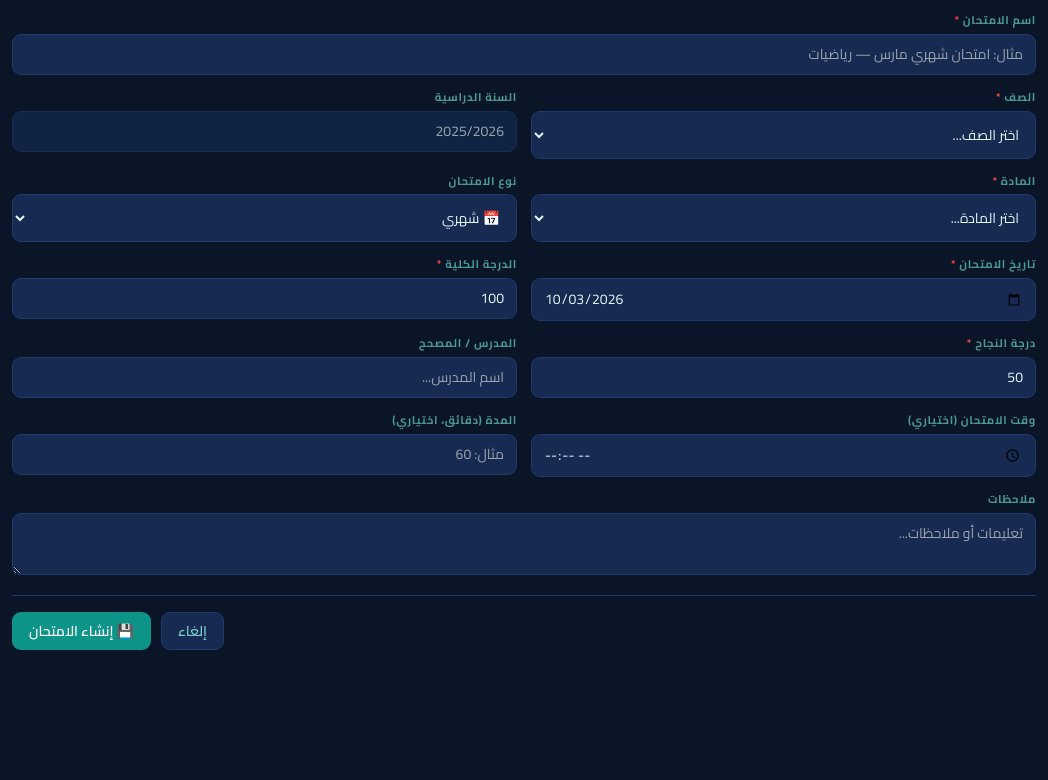
Scenario: ExamForm — scheduling fields (Exams Phase 3C) › flags a midnight-crossing end time explicitly
Step 1. Type "23:30" into the time field named "scheduledTime" → [784, 455], box [531,434,1036,477]
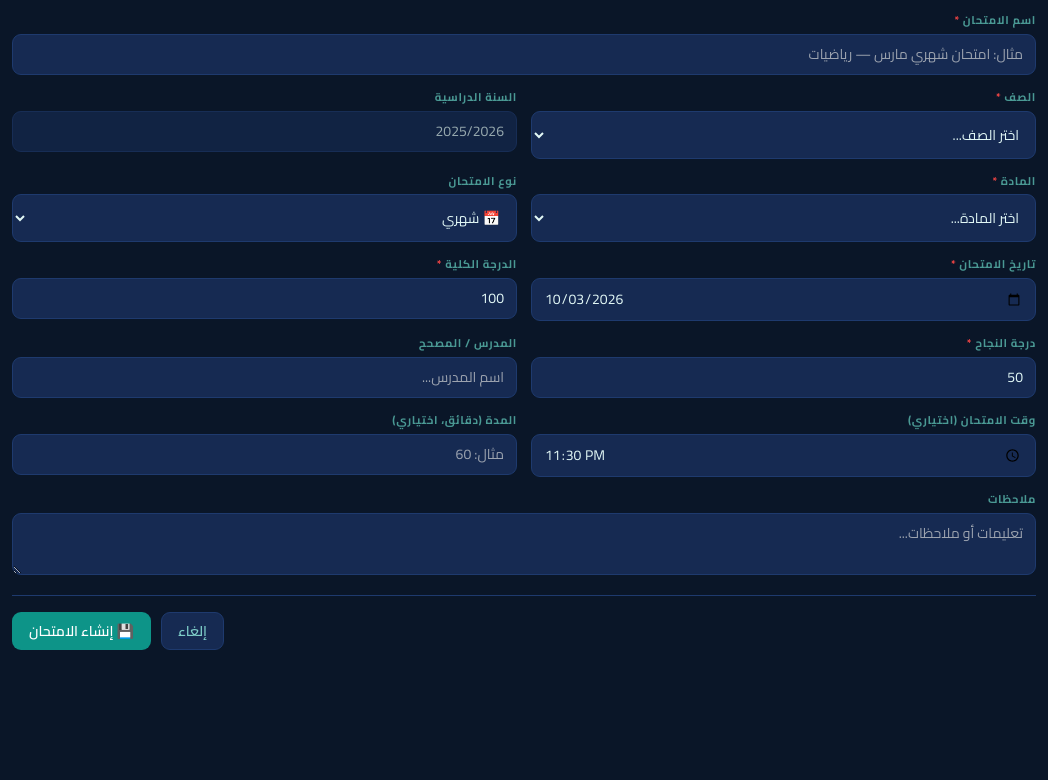
Step 2. Type "60" into the number field named "durationMinutes" → [264, 454], box [12,434,517,475]
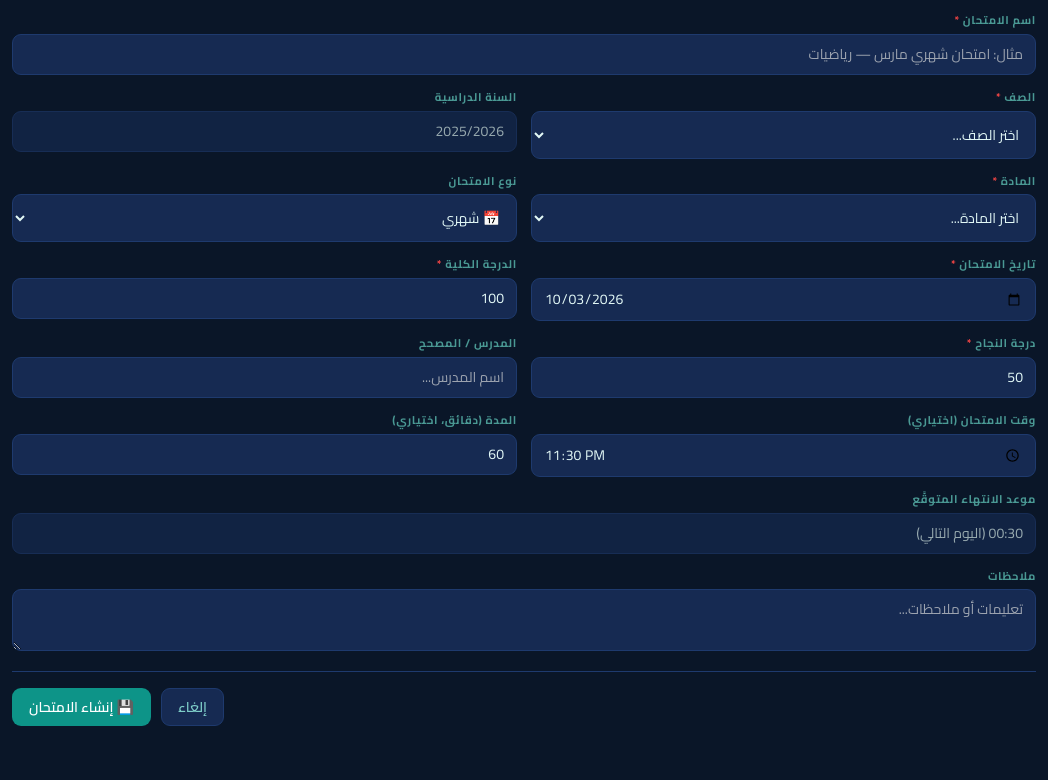
expect the field named "endTimeDisplay" below "موعد الانتهاء المتوقَّع" holds "00:30 (اليوم التالي)": met, box [12,513,1036,554]
